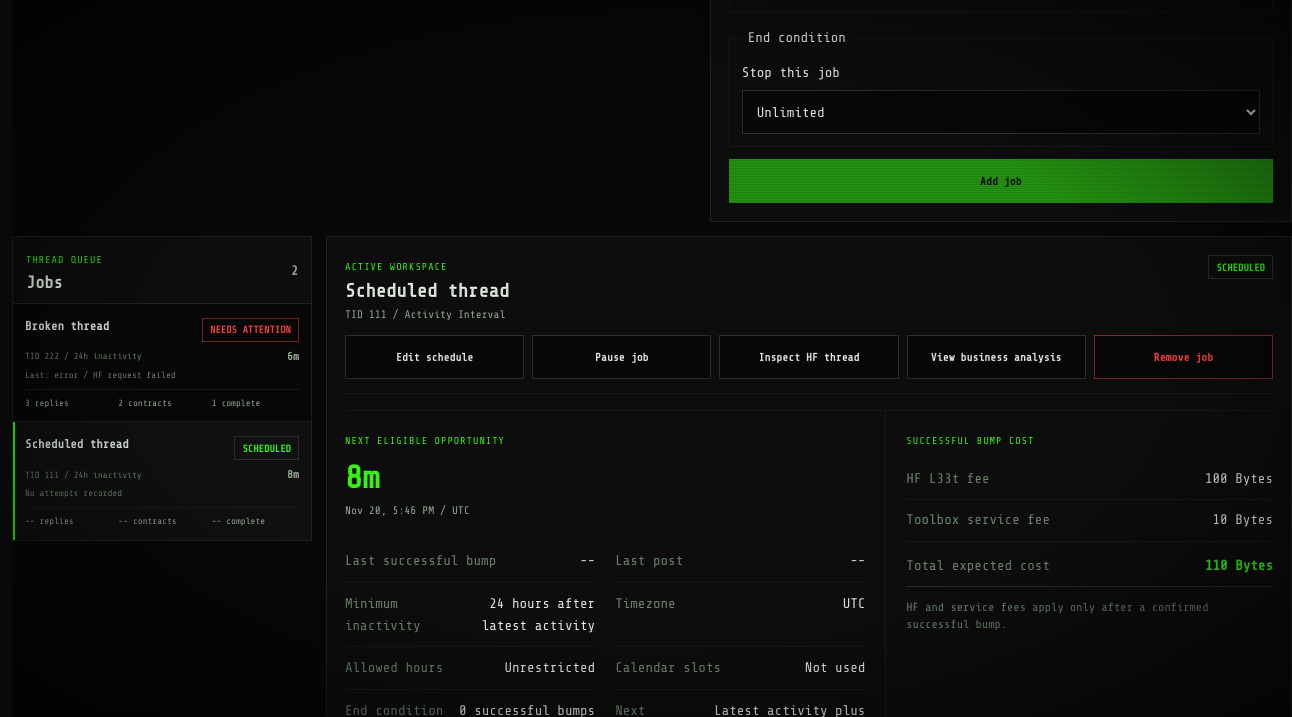
Test: Bump Service page interactions › selects an owned thread from the query string and opens schedule editing
(page scrolled)
expect the heading "Scheduled thread" is shown: met, box [345,280,509,302]
Click the button "Edit schedule" at coordinates (435, 357), box [345,335,524,379]
(page scrolled)
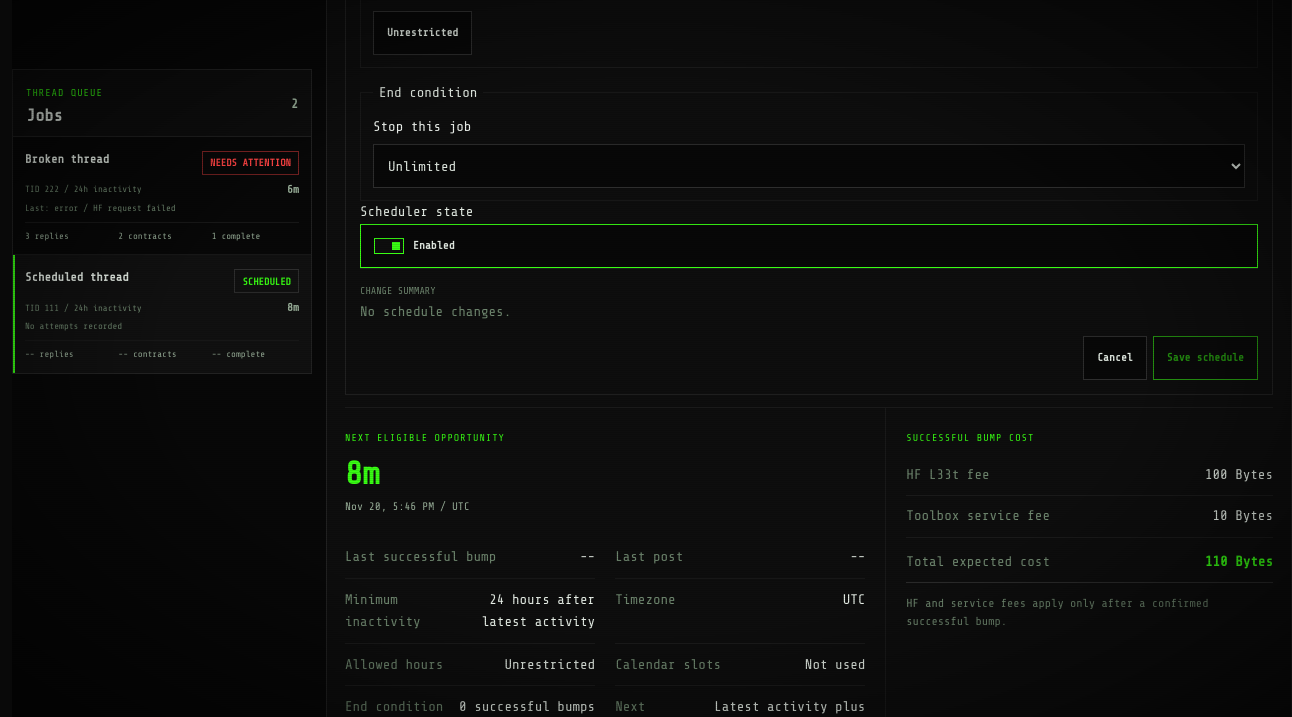
expect the button "Save schedule" is disabled: met, box [1153,336,1258,380]
